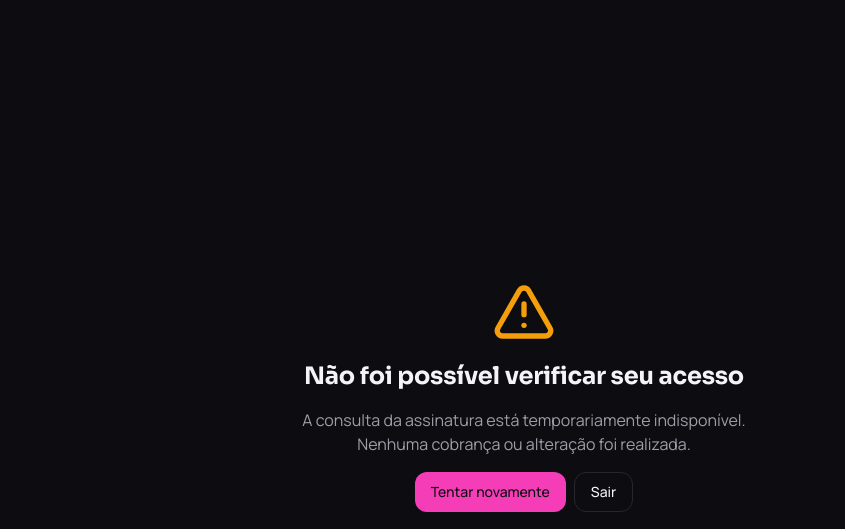
Scenario: ProtectedRoute subscription access › does not describe an RPC failure as a missing card and supports retry
Check: the heading "Não foi possível verificar seu acesso" is shown, box [300,360,748,392]
Click the button "Tentar novamente".
click(490, 492)  # box [415,472,566,512]
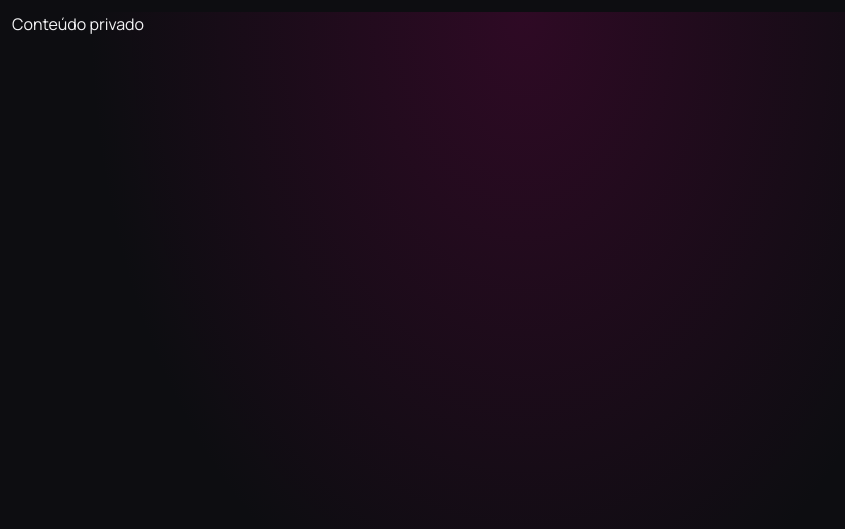
Check: the text "Conteúdo privado" is shown, box [12,13,144,35]
